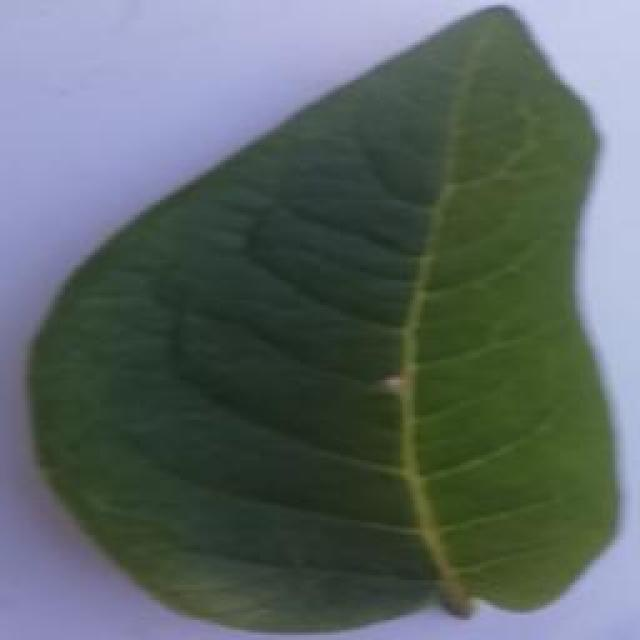Potato_Healthy: (26, 4, 613, 626)
